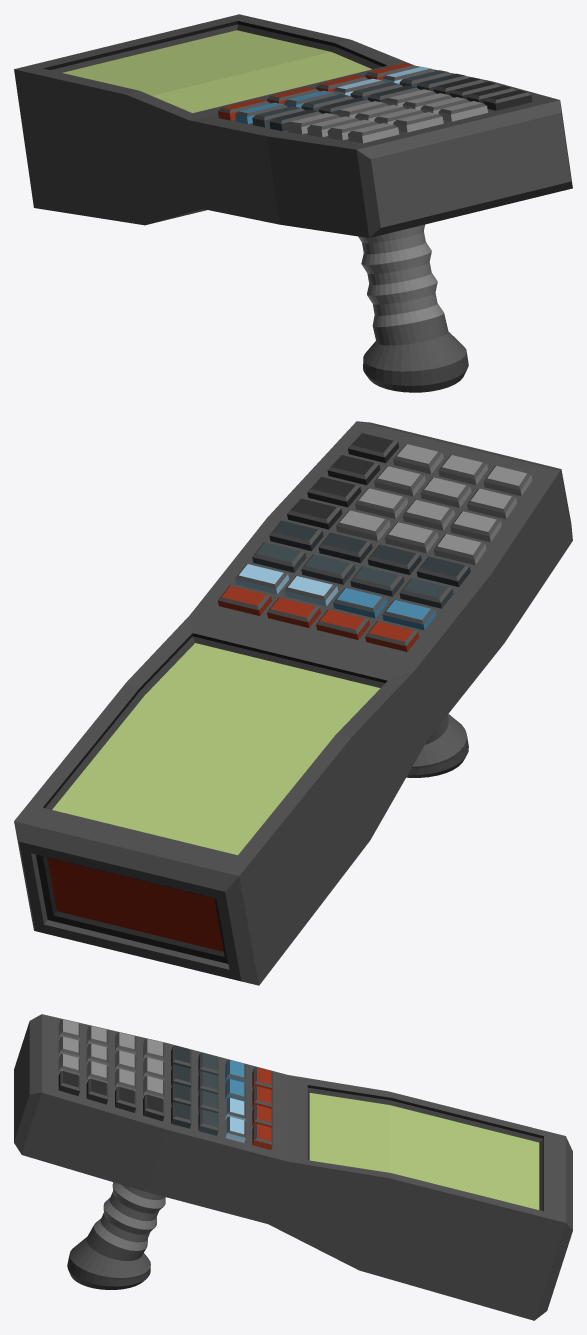
File: Hand Held Scanner.fbx
The picture shows the model from 3 angles, top to bottom: view 1: azimuth 30°, elevation 25°; view 2: azimuth 150°, elevation 25°; view 3: azimuth 270°, elevation 25°; orthographic projection. The views are drawn at different scales.
Parts seen in each view (by area): view 1: Hand Held Scanner; view 2: Hand Held Scanner; view 3: Hand Held Scanner.
Boxes of the visible parts, x1,y1,x2,y2 form: Hand Held Scanner: [14, 14, 572, 392]; Hand Held Scanner: [14, 421, 572, 985]; Hand Held Scanner: [14, 1014, 572, 1320].
Size of the model in its own units: 24.13 by 29.33 by 65.67.
Materials: 1 (1 with a texture image).
